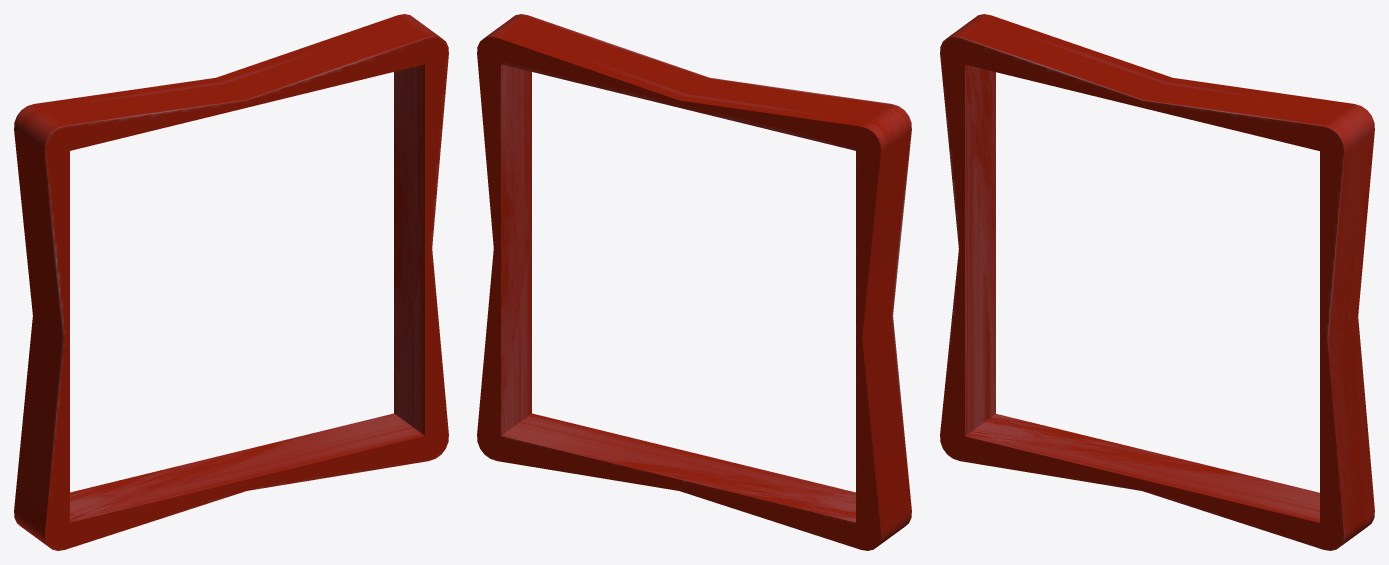
File: frame03.fbx
3 views of the same model, side by side, from view 1: azimuth 30°, elevation 25°; view 2: azimuth 150°, elevation 25°; view 3: azimuth 330°, elevation 25° (orthographic).
Visible parts, largest first — view 1: frames.03; view 2: frames.03; view 3: frames.03.
Boxes of the visible parts, bbox=[...] form: frames.03: bbox=[14, 14, 448, 550]; frames.03: bbox=[477, 14, 911, 550]; frames.03: bbox=[940, 14, 1374, 550].
Size of the model in its own units: 198 by 198 by 26.23.
